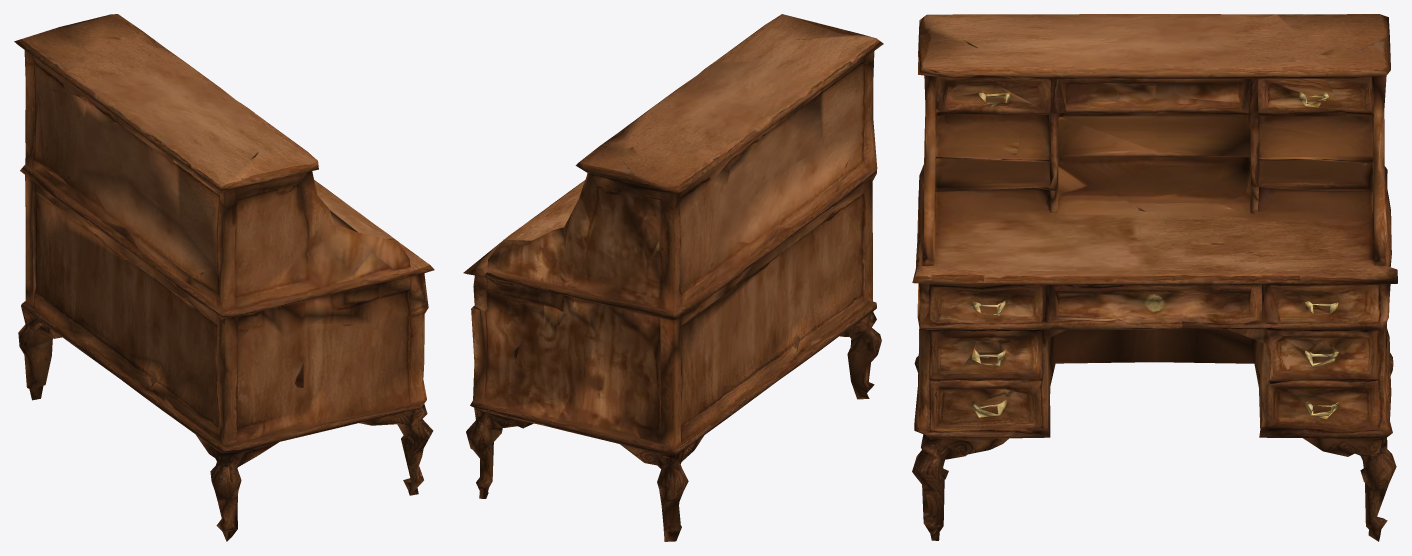
The model's file is desk.glb.
The picture shows the model from 3 angles, left to right: view 1: azimuth 30°, elevation 25°; view 2: azimuth 150°, elevation 25°; view 3: azimuth 270°, elevation 25°; orthographic projection. The views are drawn at different scales.
Visible parts, largest first — view 1: tripo_node_152a4bda-a783-48eb-bbd8-75cc9ea99143; view 2: tripo_node_152a4bda-a783-48eb-bbd8-75cc9ea99143; view 3: tripo_node_152a4bda-a783-48eb-bbd8-75cc9ea99143.
Part boxes in pixels (x1,y1,x2,y2): tripo_node_152a4bda-a783-48eb-bbd8-75cc9ea99143: (14, 14, 434, 541); tripo_node_152a4bda-a783-48eb-bbd8-75cc9ea99143: (463, 14, 883, 541); tripo_node_152a4bda-a783-48eb-bbd8-75cc9ea99143: (912, 14, 1397, 541).
Bounding box in the file's own units: 0.5793 × 0.9232 × 0.9764.
1 material, 1 textured.
